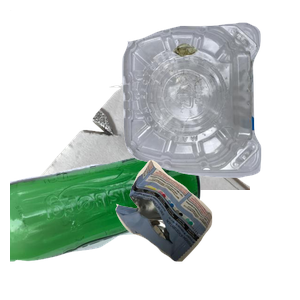glass: (10, 149, 203, 300)
paper: (10, 10, 250, 190)
plastic: (119, 20, 300, 190)
trash: (113, 157, 300, 300)
